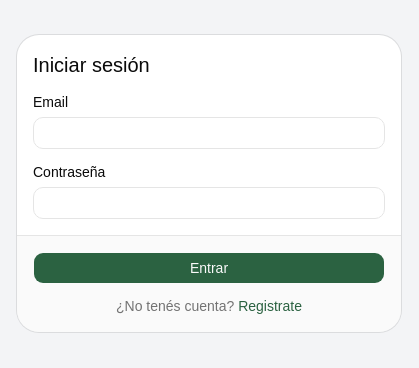
el login muestra el error de la API
Expected: the heading "Iniciar sesión" is shown, [33, 54, 150, 76]
In the field labelled "Email": [209, 132] box [33, 116, 385, 148], type "ana@example.com"
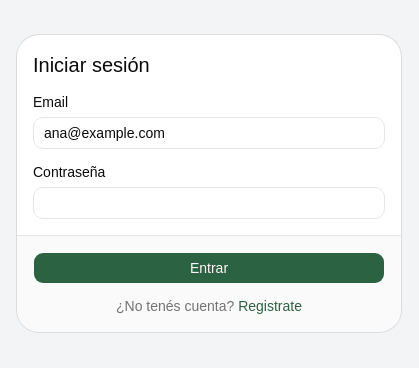
In the password field labelled "Contraseña": [209, 202] box [33, 186, 385, 218], type "otra-clave"
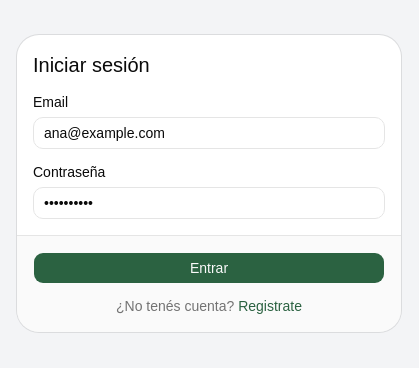
Click the button "Entrar": [209, 268] box [33, 252, 385, 284]
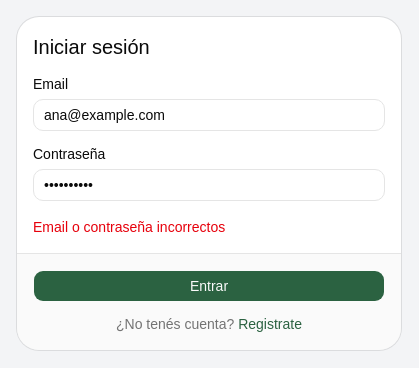
Expected: the message reads "Email o contraseña incorrectos", [33, 218, 225, 234]
